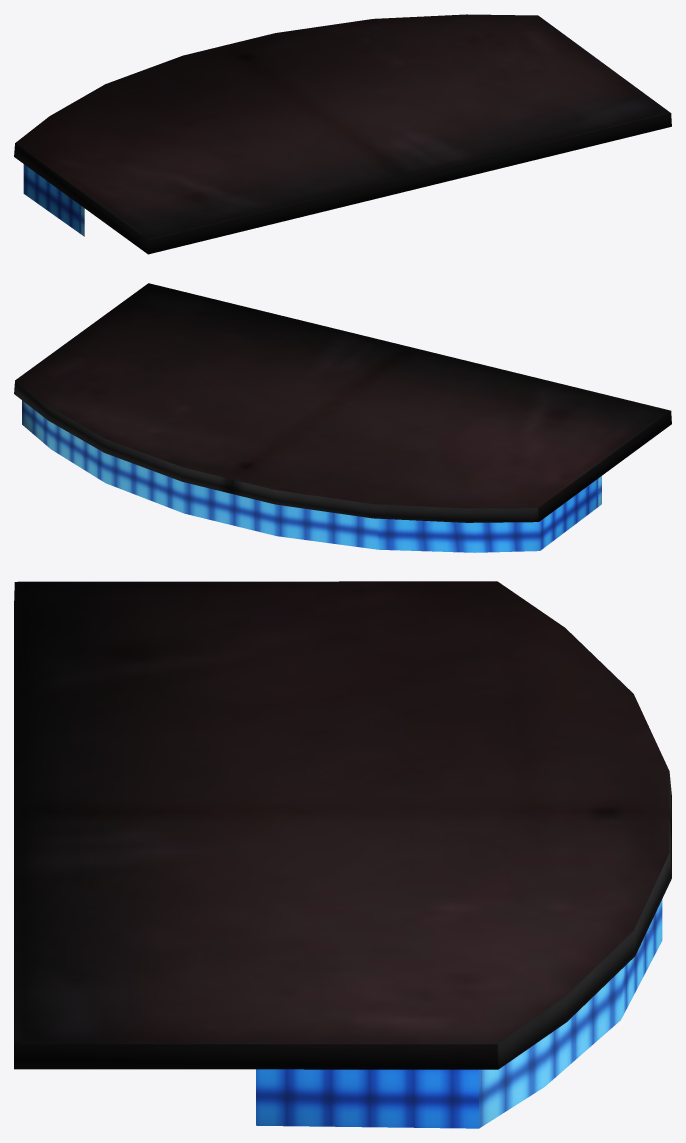
File: FUS0110002.fbx
The picture shows the model from 3 angles, top to bottom: view 1: azimuth 30°, elevation 25°; view 2: azimuth 150°, elevation 25°; view 3: azimuth 270°, elevation 25°; orthographic projection. The views are drawn at different scales.
Visible parts, largest first — view 1: smFUS0110002; view 2: smFUS0110002; view 3: smFUS0110002.
Boxes of the visible parts, x1,y1,x2,y2 form: smFUS0110002: (14,14,671,254); smFUS0110002: (14,283,671,552); smFUS0110002: (14,581,671,1128).
Bounding box in the file's own units: 321 × 27.96 × 192.
2 materials, 2 textured.
